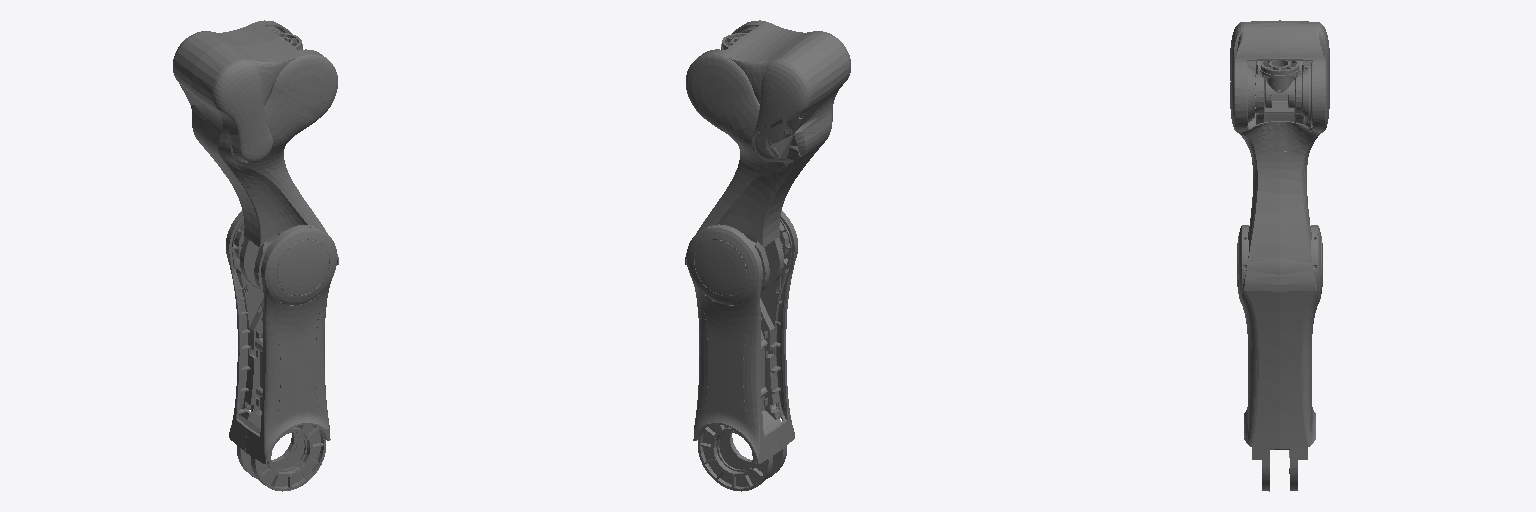
robot.urdf — astribot_torso:
<?xml version="1.0" encoding="utf-8"?>
<robot
  name="astribot_torso">
  <mujoco>
    <compiler meshdir="./meshes/" balanceinertia="true" discardvisual="false" />
  </mujoco>
  <material name="grey">
    <color rgba="0.5 0.5 0.5 1" />
  </material>
  <link
    name="astribot_torso_base">
    <inertial>
      <origin
        xyz="-0.03463 -0.000203 0.004083"
        rpy="0 0 0" />
      <mass
        value="24.4" />
      <inertia
        ixx="0.474798"
        ixy="0.001145"
        ixz="-0.026579"
        iyy="0.681708"
        iyz="-0.001446"
        izz="1.09417" />
    </inertial>
    <visual>
      <origin
        xyz="0 0 0"
        rpy="0 0 0" />
      <geometry>
        <mesh
          filename="meshes/t1_torso/astribot_torso_base_link.STL" />
      </geometry>
      <material name="grey" />
    </visual>
    <collision>
      <origin
        xyz="0 0 0"
        rpy="0 0 0" />
      <geometry>
        <mesh
          filename="meshes/t1_torso/astribot_torso_base_link.STL" />
      </geometry>
    </collision>
  </link>
  <link
    name="astribot_torso_link_1">
    <inertial>
      <origin
        xyz="-0.216604 -0.00532 -0.00079"
        rpy="0 0 0" />
      <mass
        value="4.45" />
      <inertia
        ixx="0.016581"
        ixy="0.006767"
        ixz="0.000253"
        iyy="0.306184"
        iyz="-4e-06"
        izz="0.304927" />
    </inertial>
    <visual>
      <origin
        xyz="0 0 0"
        rpy="0 0 0" />
      <geometry>
        <mesh
          filename="meshes/t1_torso/astribot_torso_link_1.STL" />
      </geometry>
      <material name="grey" />
    </visual>
    <collision>
      <origin
        xyz="0 0 0"
        rpy="0 0 0" />
      <geometry>
        <mesh
          filename="meshes/t1_torso/astribot_torso_link_1.STL" />
      </geometry>
    </collision>
  </link>
  <joint
    name="astribot_torso_joint_1"
    type="revolute">
    <origin
      xyz="0 0 0.06"
      rpy="-1.5708 1.5708 0" />
    <parent
      link="astribot_torso_base" />
    <child
      link="astribot_torso_link_1" />
    <axis
      xyz="0 0 1" />
    <limit
      lower="0"
      upper="1.5"
      effort="200"
      velocity="1.5" />
  </joint>
  <link
    name="astribot_torso_link_2">
    <inertial>
      <origin
        xyz="-0.249872 0.054647 -0.000212"
        rpy="0 0 0" />
      <mass
        value="7.2" />
      <inertia
        ixx="0.058863"
        ixy="-0.126067"
        ixz="0.001862"
        iyy="0.611362"
        iyz="-0.000544"
        izz="0.644818" />
    </inertial>
    <visual>
      <origin
        xyz="0 0 0"
        rpy="0 0 0" />
      <geometry>
        <mesh
          filename="meshes/t1_torso/astribot_torso_link_2.STL" />
      </geometry>
      <material name="grey" />
    </visual>
    <collision>
      <origin
        xyz="0 0 0"
        rpy="0 0 0" />
      <geometry>
        <mesh
          filename="meshes/t1_torso/astribot_torso_link_2.STL" />
      </geometry>
    </collision>
  </link>
  <joint
    name="astribot_torso_joint_2"
    type="revolute">
    <origin
      xyz="-0.355 0 0"
      rpy="0 0 0" />
    <parent
      link="astribot_torso_link_1" />
    <child
      link="astribot_torso_link_2" />
    <axis
      xyz="0 0 1" />
    <limit
      lower="-2.35"
      upper="0"
      effort="200"
      velocity="2" />
  </joint>
  <link
    name="astribot_torso_link_3">
    <inertial>
      <origin
        xyz="-0.031742 -0.000612 -0.000118"
        rpy="0 0 0" />
      <mass
        value="0.665" />
      <inertia
        ixx="0.000737"
        ixy="3e-06"
        ixz="-4e-06"
        iyy="0.001669"
        iyz="-1e-06"
        izz="0.001511" />
    </inertial>
    <visual>
      <origin
        xyz="0 0 0"
        rpy="0 0 0" />
      <geometry>
        <mesh
          filename="meshes/t1_torso/astribot_torso_link_3.STL" />
      </geometry>
      <material name="grey" />
    </visual>
    <collision>
      <origin
        xyz="0 0 0"
        rpy="0 0 0" />
      <geometry>
        <mesh
          filename="meshes/t1_torso/astribot_torso_link_3.STL" />
      </geometry>
    </collision>
  </link>
  <joint
    name="astribot_torso_joint_3"
    type="revolute">
    <origin
      xyz="-0.355 0 0"
      rpy="0 0 0" />
    <parent
      link="astribot_torso_link_2" />
    <child
      link="astribot_torso_link_3" />
    <axis
      xyz="0 0 1" />
    <limit
      lower="0"
      upper="2.4"
      effort="200"
      velocity="2" />
  </joint>
  <link
    name="astribot_torso_link_4">
    <inertial>
      <origin
        xyz="-0.057763 9.4e-05 0.231731"
        rpy="0 0 0" />
      <mass
        value="6.25" />
      <inertia
        ixx="0.407924"
        ixy="-0.000136"
        ixz="-0.087631"
        iyy="0.444974"
        iyz="6.5e-05"
        izz="0.062113" />
    </inertial>
    <visual>
      <origin
        xyz="0 0 0"
        rpy="0 0 0" />
      <geometry>
        <mesh
          filename="meshes/t1_torso/astribot_torso_link_4.STL" />
      </geometry>
      <material name="grey" />
    </visual>
    <collision>
      <origin
        xyz="0 0 0"
        rpy="0 0 0" />
      <geometry>
        <mesh
          filename="meshes/t1_torso/astribot_torso_link_4.STL" />
      </geometry>
    </collision>
  </link>
  <joint
    name="astribot_torso_joint_4"
    type="revolute">
    <origin
      xyz="0 0 0"
      rpy="1.5708 0 -1.5708" />
    <parent
      link="astribot_torso_link_3" />
    <child
      link="astribot_torso_link_4" />
    <axis
      xyz="0 0 1" />
    <limit
      lower="-1.58"
      upper="1.58"
      effort="200"
      velocity="3" />
  </joint>
  <link
    name="astribot_torso_end_effector">
    <inertial>
      <origin
        xyz="0.029896622514523 0.352702235471318 -0.418359565716186"
        rpy="0 0 0" />
      <mass
        value="0.0266400427905909" />
      <inertia
        ixx="5.9628635315791E-06"
        ixy="-8.58837155692183E-09"
        ixz="2.35098275515053E-08"
        iyy="8.77707849523884E-06"
        iyz="8.98908144258204E-07"
        izz="1.09177258182265E-05" />
    </inertial>
  </link>
  <joint
    name="astribot_torso_end_effector_fixed_joint"
    type="fixed">
    <origin
      xyz="0 0 0.3895"
      rpy="0 0 0" />
    <parent
      link="astribot_torso_link_4" />
    <child
      link="astribot_torso_end_effector" />
    <axis
      xyz="0 0 0" />
  </joint>
</robot>

--- Facts derived from the render (not from the file) ---
The picture shows the robot from 3 angles, left to right: view 1: azimuth 30°, elevation 25°; view 2: azimuth 150°, elevation 25°; view 3: azimuth 270°, elevation 25°; orthographic projection.
Model astribot_torso with 6 links and 5 joints (4 revolute, 1 fixed), rooted at astribot_torso_base, posed all joints at 0.
Visible links, largest first — view 1: astribot_torso_link_2, astribot_torso_link_1; view 2: astribot_torso_link_2, astribot_torso_link_1; view 3: astribot_torso_link_2, astribot_torso_link_1, astribot_torso_link_3.
Link boxes in pixels (left/top/right/bottom): astribot_torso_link_2: left=173, top=20, right=338, bottom=291; astribot_torso_link_1: left=226, top=211, right=336, bottom=491; astribot_torso_link_2: left=685, top=20, right=850, bottom=291; astribot_torso_link_1: left=687, top=211, right=797, bottom=491; astribot_torso_link_2: left=1230, top=20, right=1329, bottom=291; astribot_torso_link_1: left=1237, top=225, right=1322, bottom=491; astribot_torso_link_3: left=1247, top=60, right=1312, bottom=125.
Bounding box of the posed robot: 0.2591 × 0.1799 × 0.8642 m (x, y, z).
3 mesh visuals loaded from 5 distinct referenced files (3 binary STL); not drawn: 2 (reference not matched to a file when rendering).
